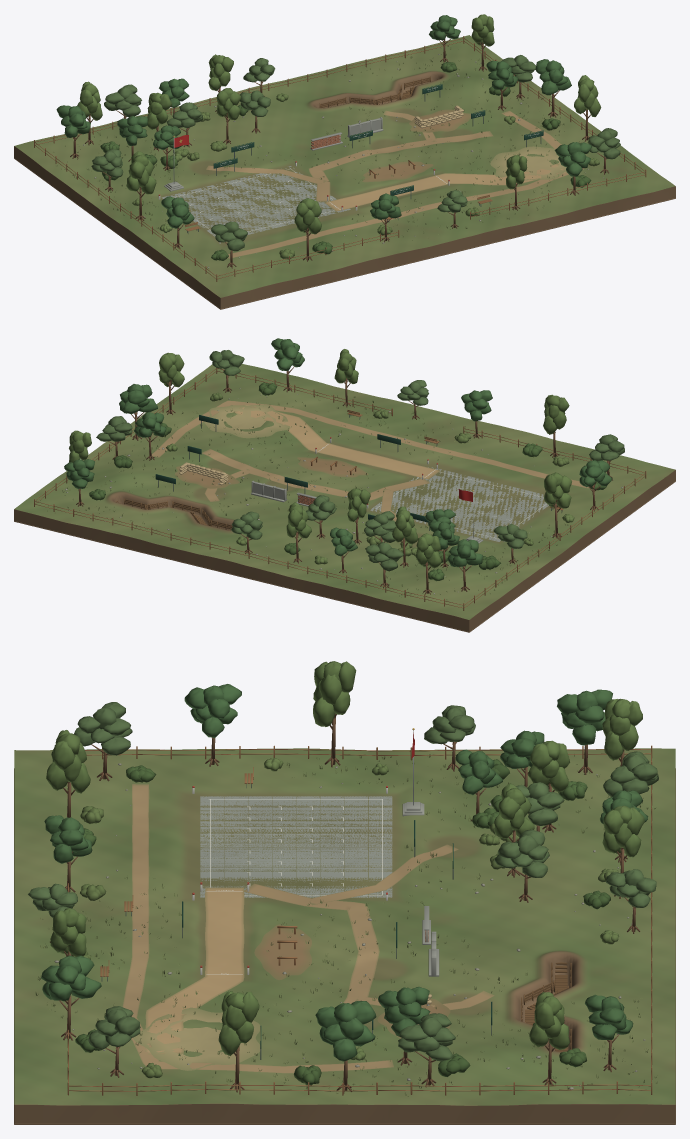
The model's file is training-ground.glb.
3 views of the same model, one above another, from view 1: azimuth 30°, elevation 25°; view 2: azimuth 150°, elevation 25°; view 3: azimuth 270°, elevation 25° (orthographic). The views are drawn at different scales.
Parts seen in each view (by area): view 1: terrain_sculpted_surface, terrain_earth_profile, vegetation_Tree_A_canopies, vegetation_Tree_B_canopies, vegetation_Tree_C_canopies, formation_paving, terrain_perimeter_fence, movement_compacted_lane, terrain_perimeter_path, terrain_observation_path, vegetation_Bush_Large, open_bare_observation_ground (+11 smaller); view 2: terrain_sculpted_surface, terrain_earth_profile, vegetation_Tree_A_canopies, vegetation_Tree_B_canopies, vegetation_Tree_C_canopies, formation_paving, terrain_perimeter_fence, movement_compacted_lane, terrain_perimeter_path, open_bare_observation_ground, vegetation_Bush_Large, terrain_observation_path (+10 smaller); view 3: terrain_sculpted_surface, formation_paving, vegetation_Tree_A_canopies, vegetation_Tree_B_canopies, vegetation_Tree_C_canopies, terrain_earth_profile, movement_compacted_lane, terrain_perimeter_path, terrain_perimeter_fence, open_bare_observation_ground, vegetation_Bush_Large, terrain_observation_path (+8 smaller).
Boxes of the visible parts, x1,y1,x2,y2 form: terrain_sculpted_surface: (14, 35, 675, 297); terrain_earth_profile: (14, 146, 675, 308); vegetation_Tree_A_canopies: (56, 15, 591, 228); vegetation_Tree_B_canopies: (77, 14, 601, 234); vegetation_Tree_C_canopies: (91, 55, 620, 251); formation_paving: (161, 166, 350, 236); terrain_perimeter_fence: (34, 36, 646, 281); movement_compacted_lane: (325, 163, 566, 211); terrain_perimeter_path: (228, 111, 585, 258); terrain_observation_path: (309, 131, 493, 201); vegetation_Bush_Large: (100, 62, 591, 260); open_bare_observation_ground: (490, 146, 566, 180); terrain_sculpted_surface: (14, 364, 675, 619); terrain_earth_profile: (14, 470, 675, 631); vegetation_Tree_A_canopies: (64, 338, 612, 567); vegetation_Tree_B_canopies: (69, 349, 571, 568); vegetation_Tree_C_canopies: (96, 350, 624, 571); formation_paving: (370, 467, 548, 541); terrain_perimeter_fence: (34, 368, 646, 610); movement_compacted_lane: (233, 404, 439, 479); terrain_perimeter_path: (151, 400, 588, 488); open_bare_observation_ground: (204, 404, 290, 438); vegetation_Bush_Large: (89, 382, 606, 581); terrain_observation_path: (201, 449, 429, 500); terrain_sculpted_surface: (14, 748, 675, 1105); formation_paving: (200, 796, 392, 897); vegetation_Tree_A_canopies: (41, 684, 648, 1061); vegetation_Tree_B_canopies: (46, 661, 644, 1055); vegetation_Tree_C_canopies: (28, 702, 658, 1061); terrain_earth_profile: (14, 1104, 675, 1123); movement_compacted_lane: (145, 887, 244, 1054); terrain_perimeter_path: (122, 784, 393, 1073); terrain_perimeter_fence: (67, 745, 652, 1095); open_bare_observation_ground: (133, 1007, 260, 1070); vegetation_Bush_Large: (75, 759, 610, 1085); terrain_observation_path: (244, 883, 379, 1003).
Bounding box in the file's own units: 70.06 × 11.4 × 55.06.
